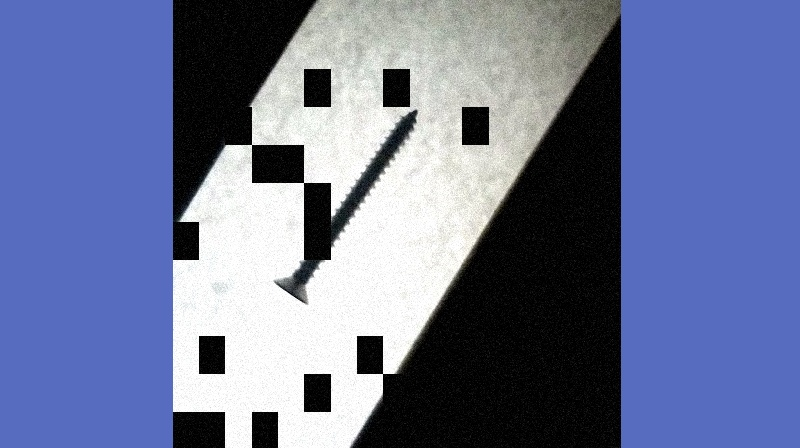S002: (269, 106, 418, 309)
